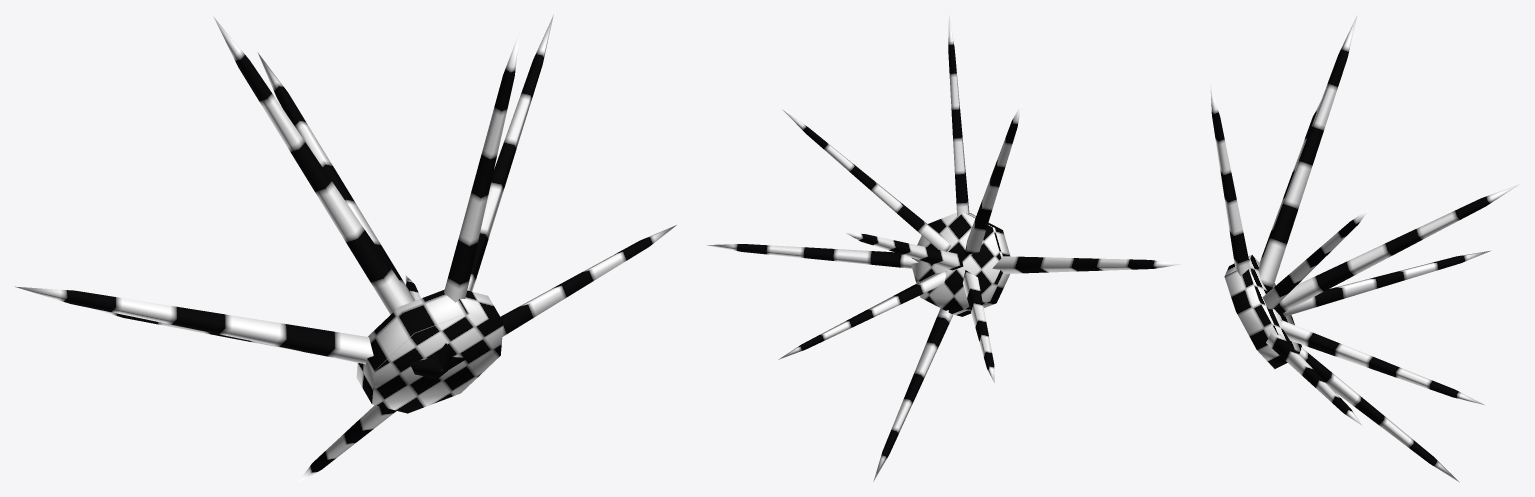
Rendered from initqi22.dae.
3 renders of one model, left to right at view 1: azimuth 30°, elevation 25°; view 2: azimuth 150°, elevation 25°; view 3: azimuth 270°, elevation 25°, orthographic. The views are drawn at different scales.
Visible parts, largest first — view 1: item; view 2: item; view 3: item.
Boxes of the visible parts, x1=… form: item: x1=15, y1=15, x2=676, y2=482; item: x1=706, y1=15, x2=1180, y2=481; item: x1=1210, y1=15, x2=1519, y2=482.
Size of the model in its own units: 1.38 by 0.7237 by 1.08.
Materials: 1 (1 with a texture image).
